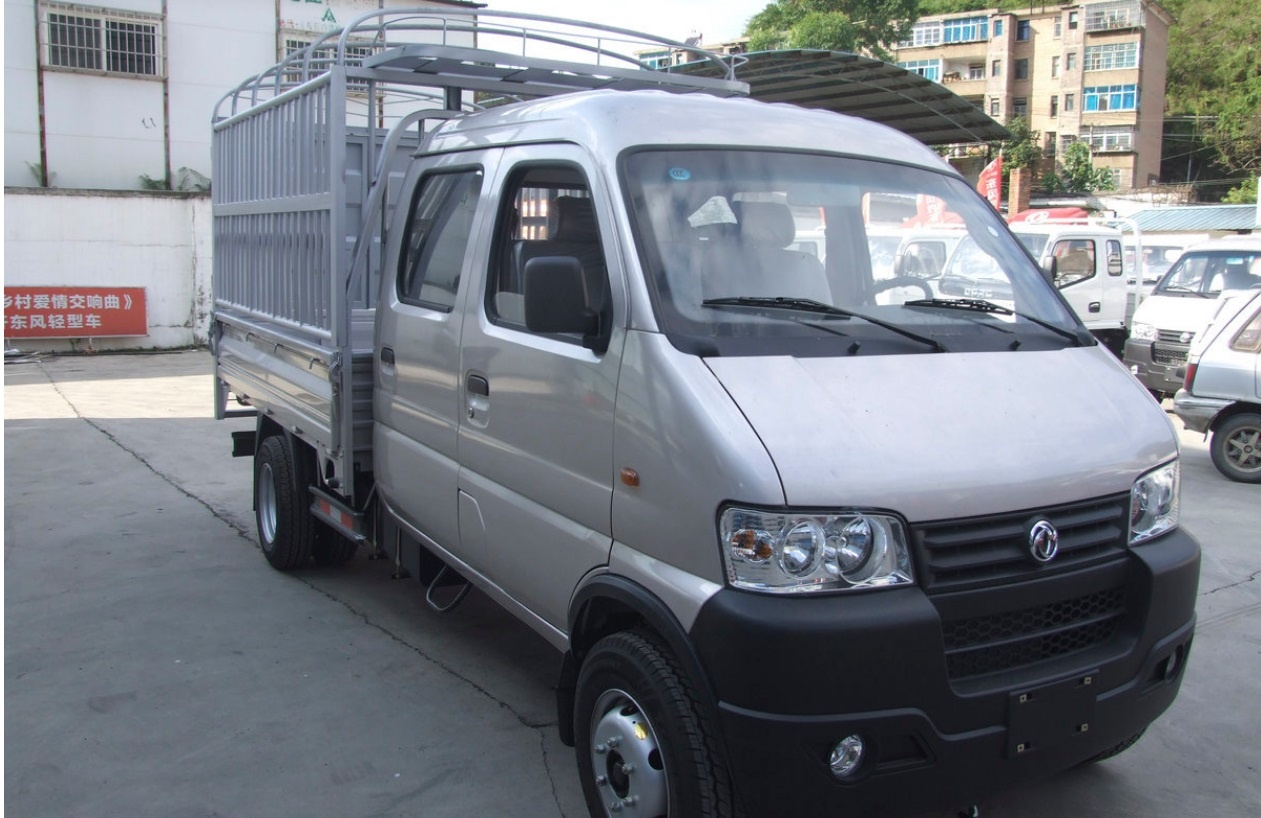truck: (184, 21, 1218, 814)
